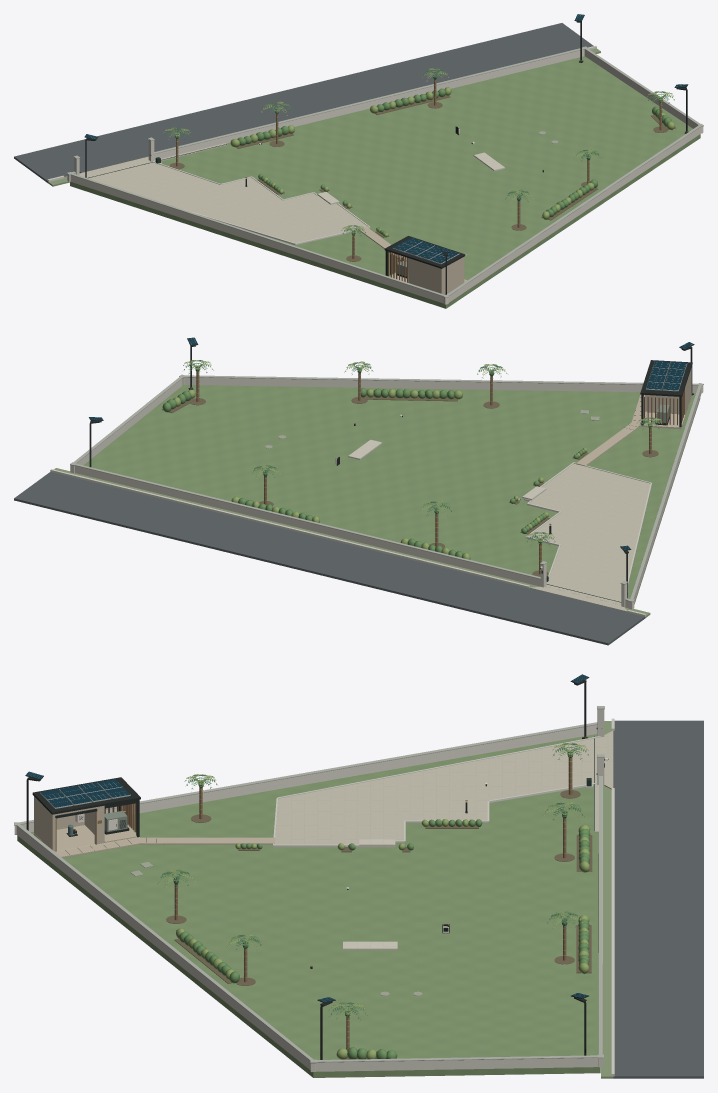
File: landscape.glb
3 views of the same model, one above another, from view 1: azimuth 30°, elevation 25°; view 2: azimuth 150°, elevation 25°; view 3: azimuth 270°, elevation 25° (orthographic). The views are drawn at different scales.
Visible parts, largest first — view 1: landscape-Site Lawn, landscape-Site Road, landscape-Site Paving, landscape-Site Wall, landscape-Site Coping, landscape-Site Leaf middle, landscape-Luxury device limestone, landscape-Site Leaf light, landscape-Site Soil, landscape-Luxury device graphite, landscape-Luxury device solar, landscape-Site Curb (+2 smaller); view 2: landscape-Site Lawn, landscape-Site Road, landscape-Site Paving, landscape-Site Wall, landscape-Site Coping, landscape-Site Curb, landscape-Site Leaf middle, landscape-Luxury device limestone, landscape-Site Leaf light, landscape-Luxury device graphite, landscape-Site Verge, landscape-Luxury device solar (+5 smaller); view 3: landscape-Site Lawn, landscape-Site Road, landscape-Site Paving, landscape-Site Wall, landscape-Site Coping, landscape-Luxury device limestone, landscape-Site Leaf middle, landscape-Site Curb, landscape-Site Verge, landscape-Luxury device graphite, landscape-Site Leaf light, landscape-Site Soil (+4 smaller).
Part boxes in pixels (bbox=[...]): landscape-Site Lawn: bbox=[70, 56, 700, 308]; landscape-Site Road: bbox=[14, 23, 593, 182]; landscape-Site Paving: bbox=[64, 143, 367, 243]; landscape-Site Wall: bbox=[67, 49, 703, 304]; landscape-Site Coping: bbox=[67, 46, 703, 297]; landscape-Site Leaf middle: bbox=[168, 68, 674, 236]; landscape-Luxury device limestone: bbox=[358, 227, 467, 294]; landscape-Site Leaf light: bbox=[163, 68, 674, 237]; landscape-Site Soil: bbox=[169, 95, 675, 261]; landscape-Luxury device graphite: bbox=[84, 15, 688, 294]; landscape-Luxury device solar: bbox=[85, 14, 687, 263]; landscape-Site Curb: bbox=[47, 45, 596, 244]; landscape-Site Lawn: bbox=[83, 385, 700, 604]; landscape-Site Road: bbox=[14, 472, 645, 645]; landscape-Site Paving: bbox=[528, 463, 650, 611]; landscape-Site Wall: bbox=[70, 377, 703, 609]; landscape-Site Coping: bbox=[70, 374, 703, 602]; landscape-Site Curb: bbox=[50, 462, 651, 616]; landscape-Site Leaf middle: bbox=[162, 360, 663, 557]; landscape-Luxury device limestone: bbox=[576, 367, 691, 465]; landscape-Site Leaf light: bbox=[173, 361, 662, 559]; landscape-Luxury device graphite: bbox=[89, 338, 694, 598]; landscape-Site Verge: bbox=[54, 468, 650, 617]; landscape-Luxury device solar: bbox=[89, 337, 693, 549]; landscape-Site Lawn: bbox=[17, 734, 600, 1077]; landscape-Site Road: bbox=[613, 720, 703, 1078]; landscape-Site Paving: bbox=[275, 731, 613, 844]; landscape-Site Wall: bbox=[14, 709, 604, 1072]; landscape-Site Coping: bbox=[14, 706, 604, 1063]; landscape-Luxury device limestone: bbox=[34, 796, 274, 857]; landscape-Site Leaf middle: bbox=[157, 743, 590, 1059]; landscape-Site Curb: bbox=[273, 718, 614, 1076]; landscape-Site Verge: bbox=[601, 721, 613, 1078]; landscape-Luxury device graphite: bbox=[25, 675, 604, 1059]; landscape-Site Leaf light: bbox=[164, 744, 590, 1059]; landscape-Site Soil: bbox=[166, 790, 592, 1059].
Bounding box in the file's own units: 51 × 4.69 × 41.84.
Materials: 34 (4 with a texture image).
